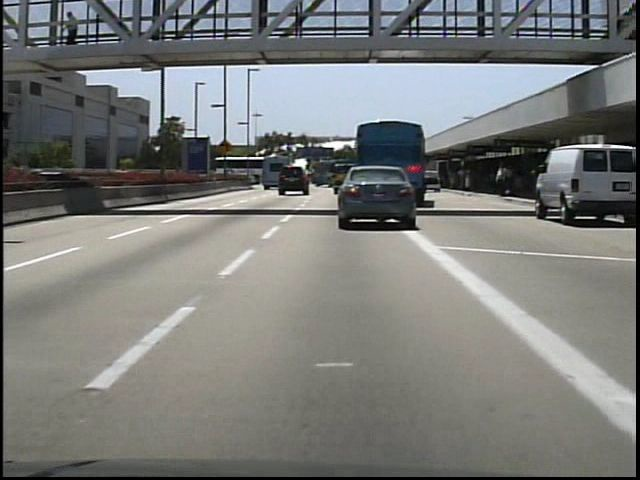person: (63, 12, 85, 57), (496, 161, 513, 199)
